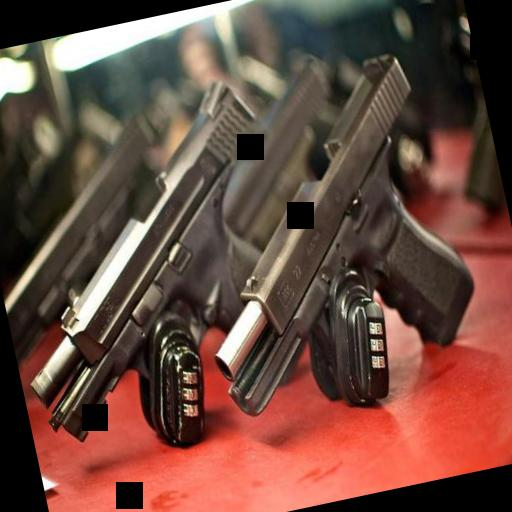Handgun: (153, 36, 489, 432), (0, 52, 318, 464)
